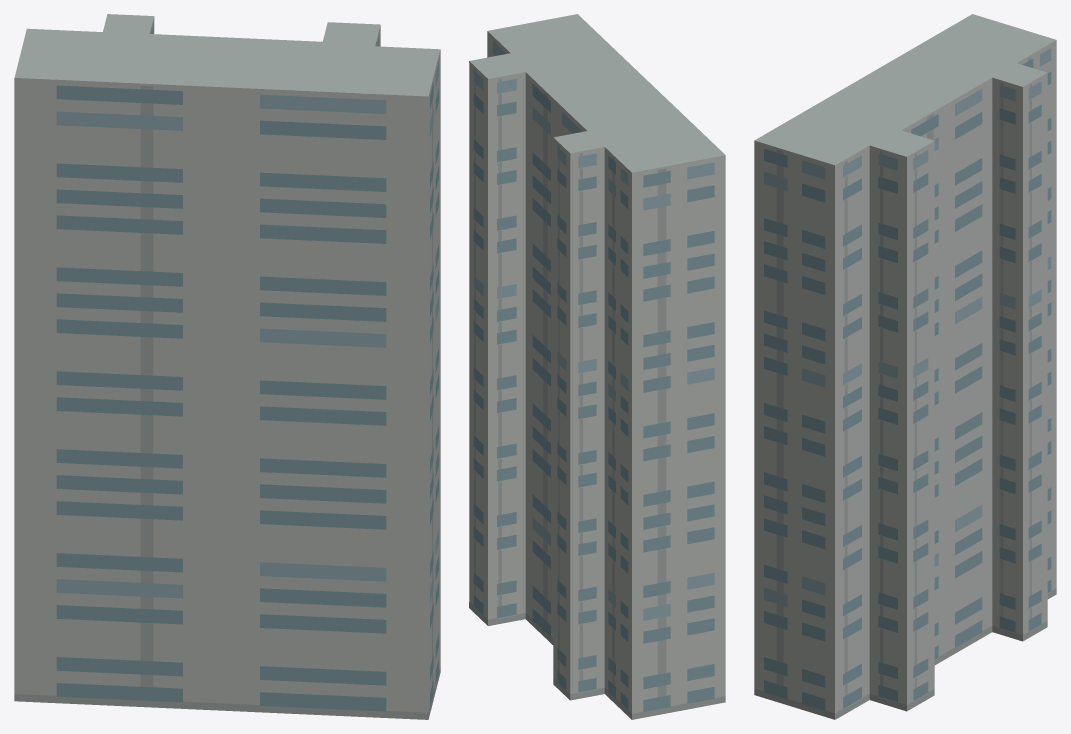
File: residential-65ceab84-a740-419d-8afe-82d9ee19d543.glb
3 renders of one model, left to right at view 1: azimuth 30°, elevation 25°; view 2: azimuth 150°, elevation 25°; view 3: azimuth 270°, elevation 25°, orthographic. The views are drawn at different scales.
Parts seen in each view (by area): view 1: residential-65ceab84-a740-419d-8afe-82d9ee19d543.tmp; view 2: residential-65ceab84-a740-419d-8afe-82d9ee19d543.tmp; view 3: residential-65ceab84-a740-419d-8afe-82d9ee19d543.tmp.
Boxes of the visible parts, x1=… form: residential-65ceab84-a740-419d-8afe-82d9ee19d543.tmp: x1=14, y1=14, x2=440, y2=719; residential-65ceab84-a740-419d-8afe-82d9ee19d543.tmp: x1=469, y1=14, x2=725, y2=719; residential-65ceab84-a740-419d-8afe-82d9ee19d543.tmp: x1=754, y1=14, x2=1056, y2=719.
Bounding box in the file's own units: 38.65 × 66 × 32.62.
